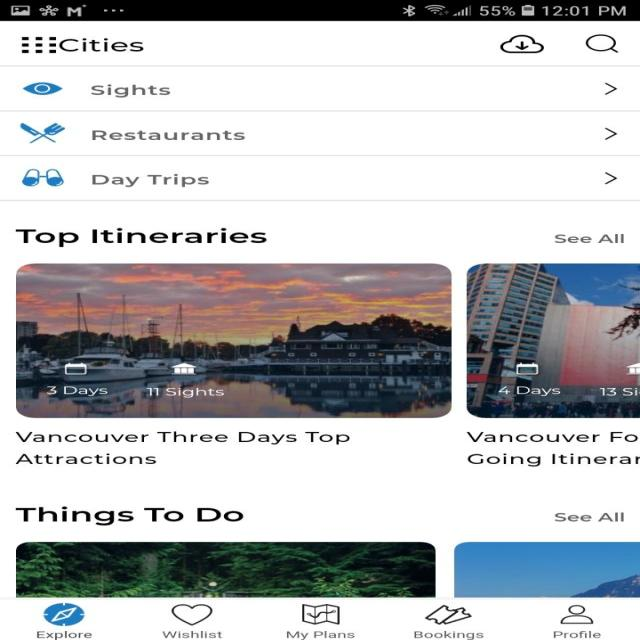Icon: (42, 602, 84, 626), (424, 604, 472, 624), (170, 604, 212, 626), (300, 603, 340, 625), (500, 34, 544, 54), (559, 604, 593, 624), (21, 36, 57, 54), (584, 34, 618, 53), (21, 82, 63, 95), (514, 362, 538, 375), (64, 362, 87, 375), (170, 363, 196, 374), (604, 172, 618, 185), (603, 128, 617, 140), (603, 83, 617, 95)
Image: (15, 263, 452, 418), (466, 264, 640, 418), (16, 541, 435, 597), (454, 542, 639, 597), (20, 122, 66, 143), (21, 168, 64, 186), (626, 363, 640, 374)
Text: (15, 431, 349, 464), (466, 432, 640, 466), (15, 228, 267, 247), (15, 506, 244, 526), (91, 174, 209, 188), (92, 130, 245, 140), (58, 38, 144, 52), (90, 84, 170, 98), (146, 387, 224, 398), (554, 233, 624, 243), (554, 512, 624, 521), (414, 630, 484, 639), (286, 630, 355, 639), (498, 386, 560, 396), (46, 386, 108, 396), (36, 630, 92, 640), (162, 630, 222, 638), (552, 630, 600, 638), (599, 388, 639, 396)
